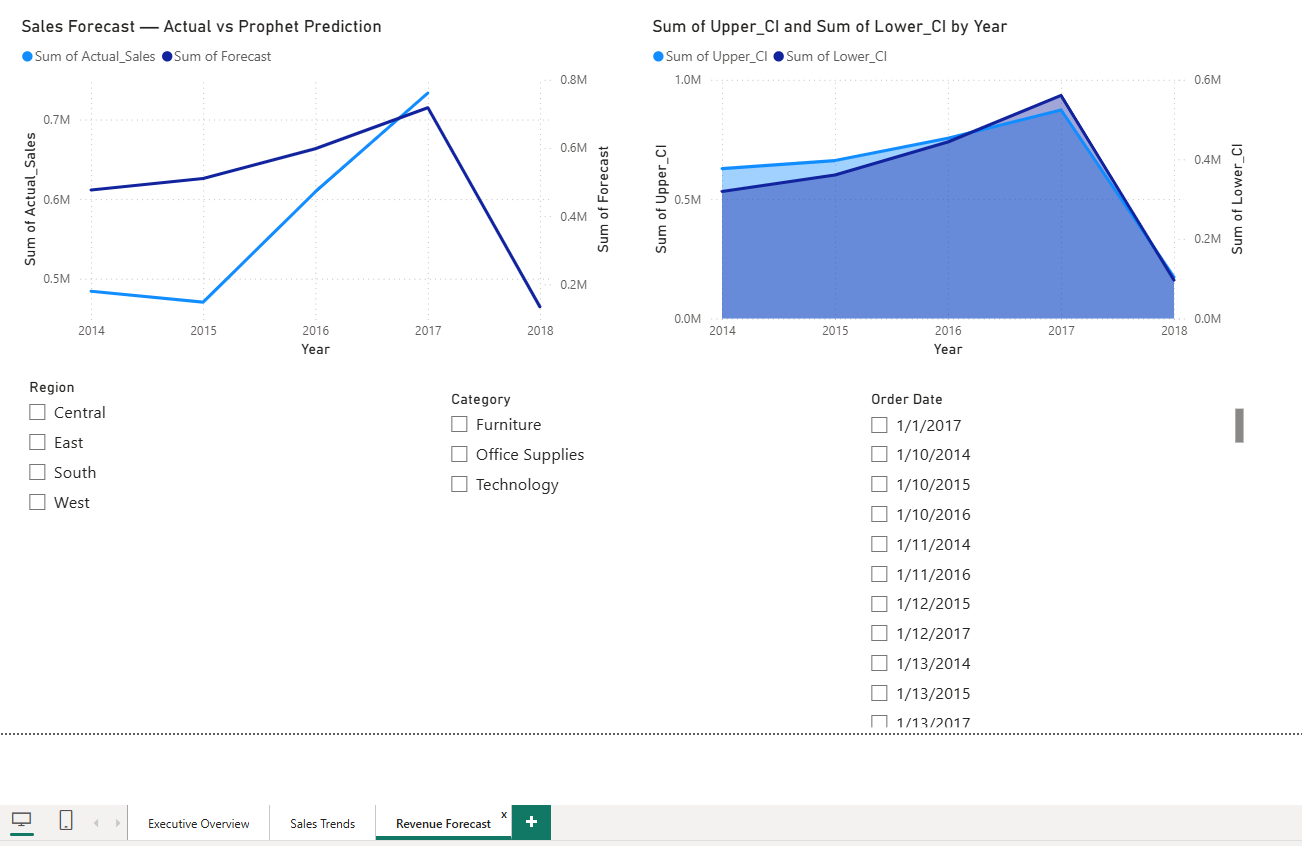

What the dashboard file says about the page in this screenshot:
{"tool":"powerbi","page":{"name":"Revenue Forecast","canvas":[1280,720],"ordinal":2},"visuals":[{"type":"lineChart","title":"Sales Forecast — Actual vs Prophet Prediction","fields":{"Category":["sales_forecast.Date.Variation.Date Hierarchy.Year"],"Y":["Sum(sales_forecast.Actual_Sales)"],"Y2":["Sum(sales_forecast.Forecast)"]},"box":[15.6,22.4,582.6,337.5],"z":0},{"type":"areaChart","fields":{"Category":["sales_forecast.Date.Variation.Date Hierarchy.Year"],"Y":["Sum(sales_forecast.Upper_CI)"],"Y2":["Sum(sales_forecast.Lower_CI)"]},"box":[629.3,22.4,585.5,337.5],"z":1000},{"type":"slicer","fields":{"Values":["Sample - Superstore.Region"]},"box":[15.6,369.6,410.5,338.5],"z":2000},{"type":"slicer","fields":{"Values":["Sample - Superstore.Category"]},"box":[426,381.3,409.5,338.5],"z":3000},{"type":"slicer","fields":{"Values":["Sample - Superstore.Order Date"]},"box":[835,381,380,338],"z":4000}]}

Visuals, with their boxes on the page's 1280x720 design canvas (x1, y1, x2, y2). These are canvas units, not pixel positions in the 1302x846 screenshot, which may show the page scaled, cropped or inside an application window:
"Sales Forecast — Actual vs Prophet Prediction" lineChart: bbox=[16, 22, 598, 360]
areaChart - sales_forecast.Date.Variation.Date Hierarchy.Year x Sum(sales_forecast.Upper_CI): bbox=[629, 22, 1215, 360]
slicer - Sample - Superstore.Region: bbox=[16, 370, 426, 708]
slicer - Sample - Superstore.Category: bbox=[426, 381, 836, 720]
slicer - Sample - Superstore.Order Date: bbox=[835, 381, 1215, 719]
